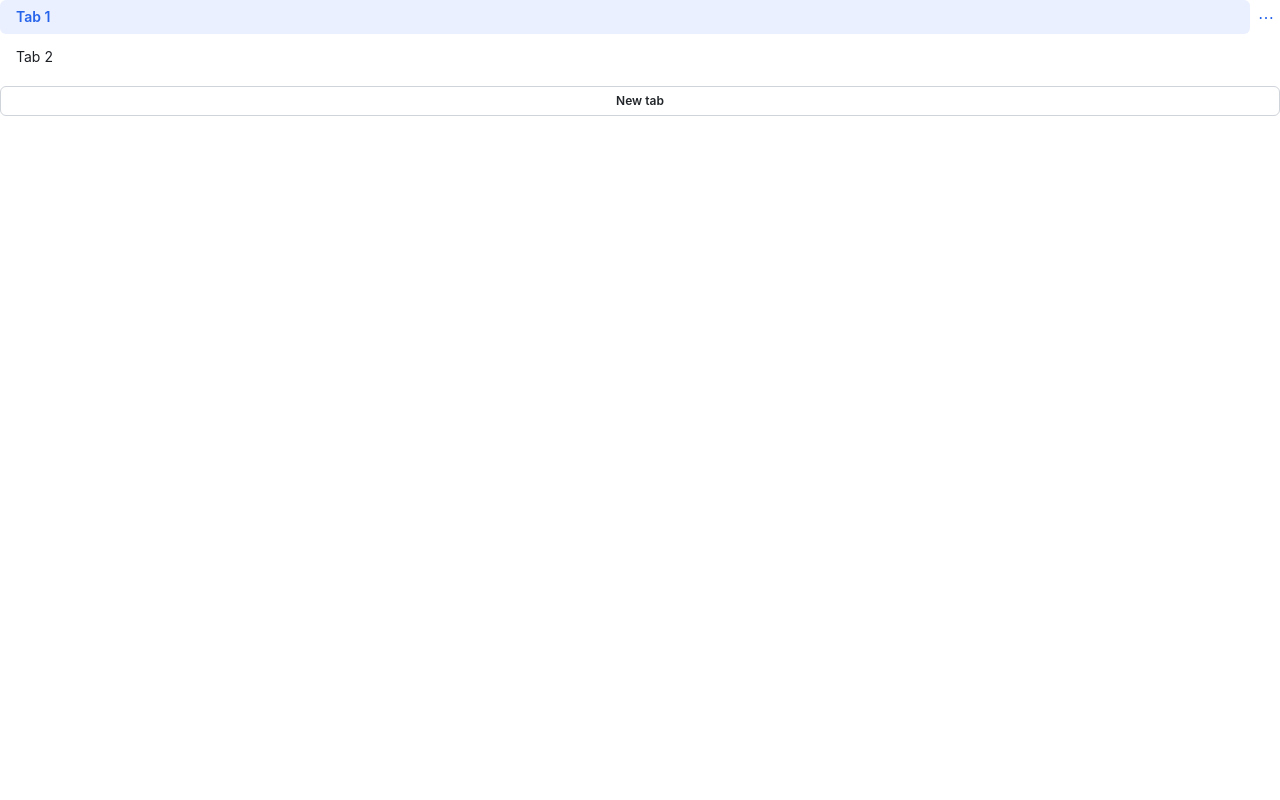
Test: TabBar › Delete on a tab with cards asks first, names the count, and Cancel keeps the tab
Later steps or results of the test are not shown.
Click the button named "Tab actions" at [1266, 17], box [1252, 3, 1279, 31]
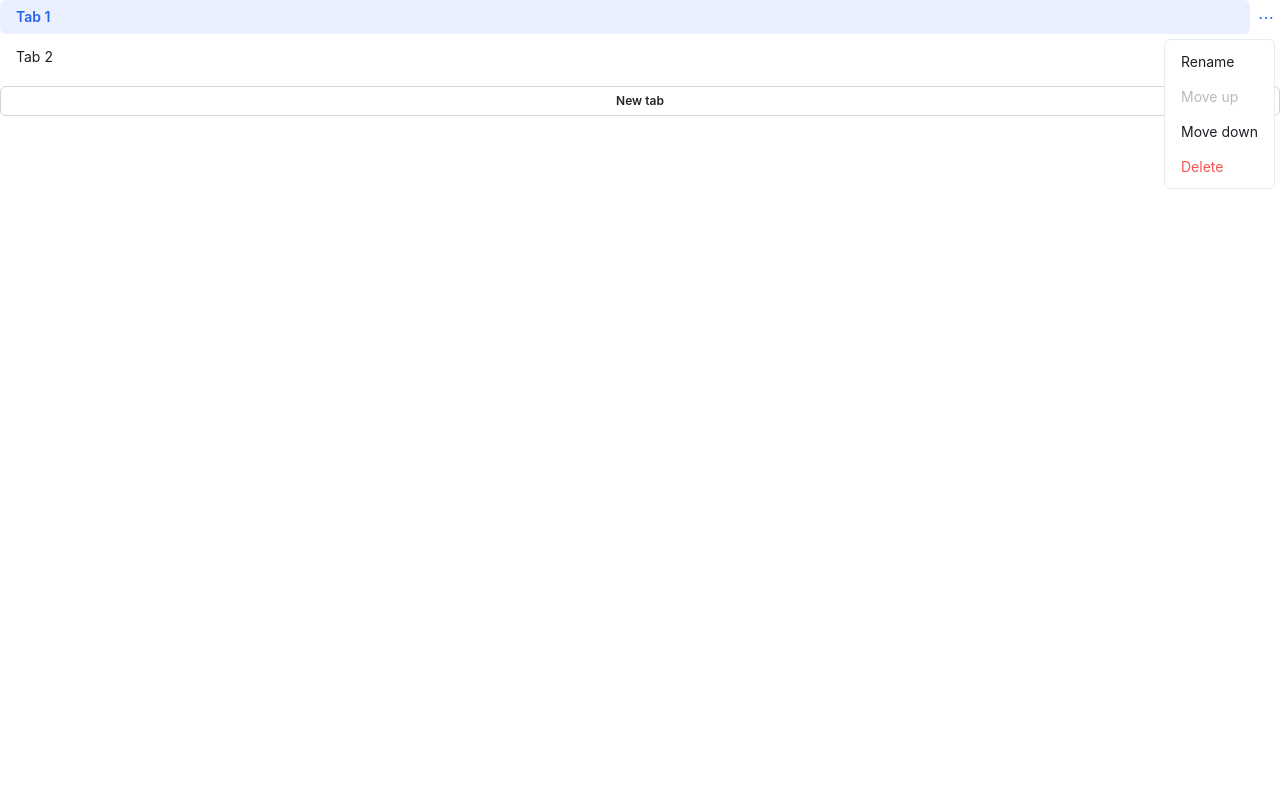
Click the menu item "Delete" at [1220, 166], box [1169, 149, 1270, 184]
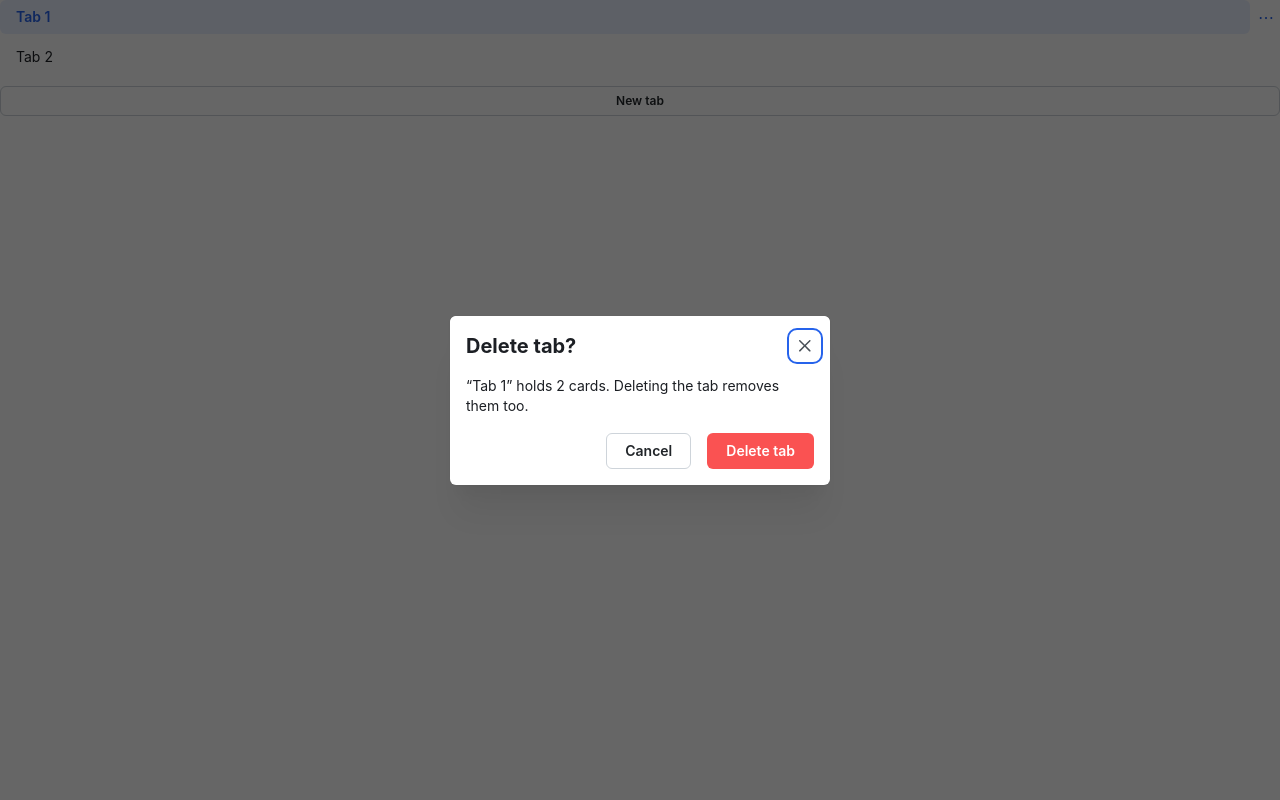
Now the text "“Tab 1” holds 2 cards. Deleting the tab removes them too." is shown, box [466, 376, 814, 416]
